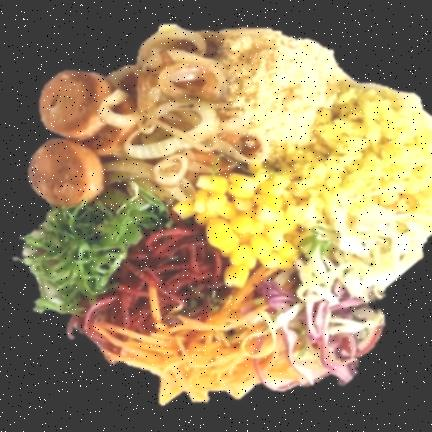carrot: (114, 290, 310, 398)
corn: (172, 160, 324, 287)
rice: (272, 77, 432, 235)
salad: (245, 205, 431, 383)
sausage: (23, 22, 261, 208)
